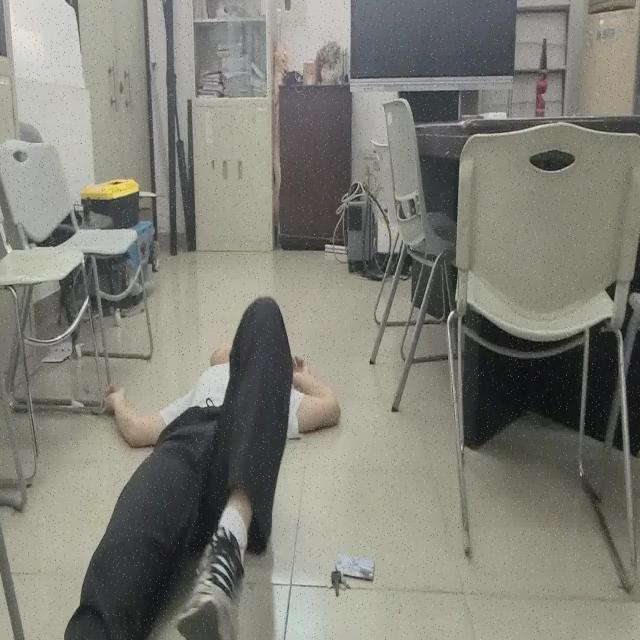fall: (60, 294, 341, 640)
